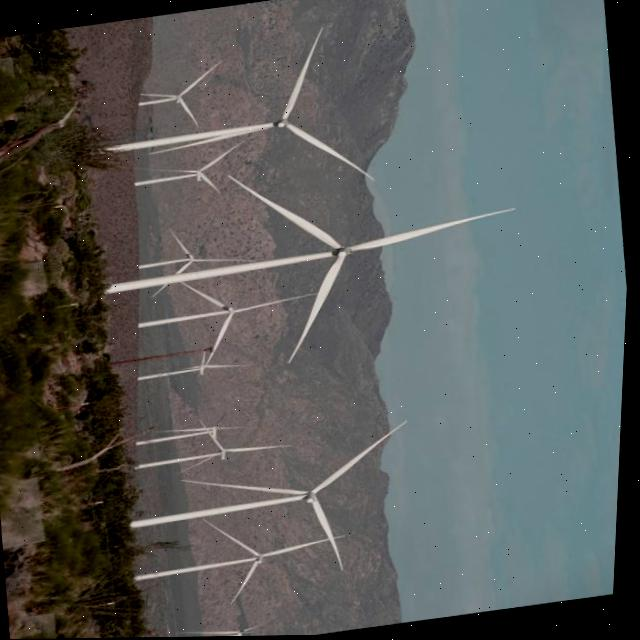solid-blade: (229, 175, 342, 250), (348, 210, 515, 252), (316, 423, 409, 493), (291, 252, 347, 364), (287, 123, 375, 180), (282, 28, 321, 120), (315, 499, 346, 571), (185, 480, 311, 496), (206, 521, 264, 555), (235, 295, 317, 312), (235, 562, 263, 606), (229, 447, 293, 452)
